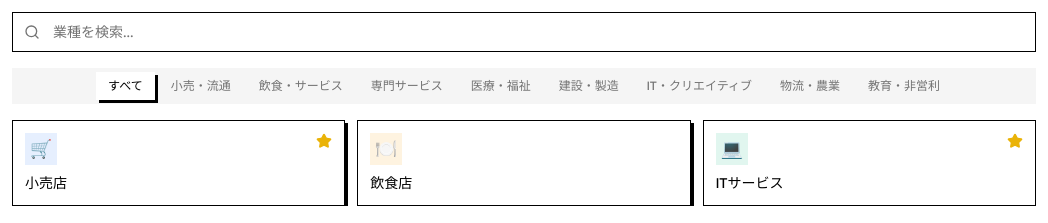
it: IndustrySelector › should filter templates when searching
This screenshot has width=1048, height=223.
Step 1. Type "IT" into the field with placeholder "業種を検索..." → (524, 32), box [12,12,1036,52]
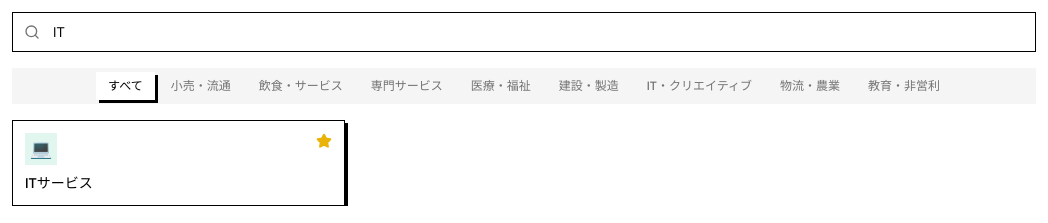
Expected: the heading "ITサービス" is shown, [25,174,93,192]
Expected: the heading "小売店" is gone
